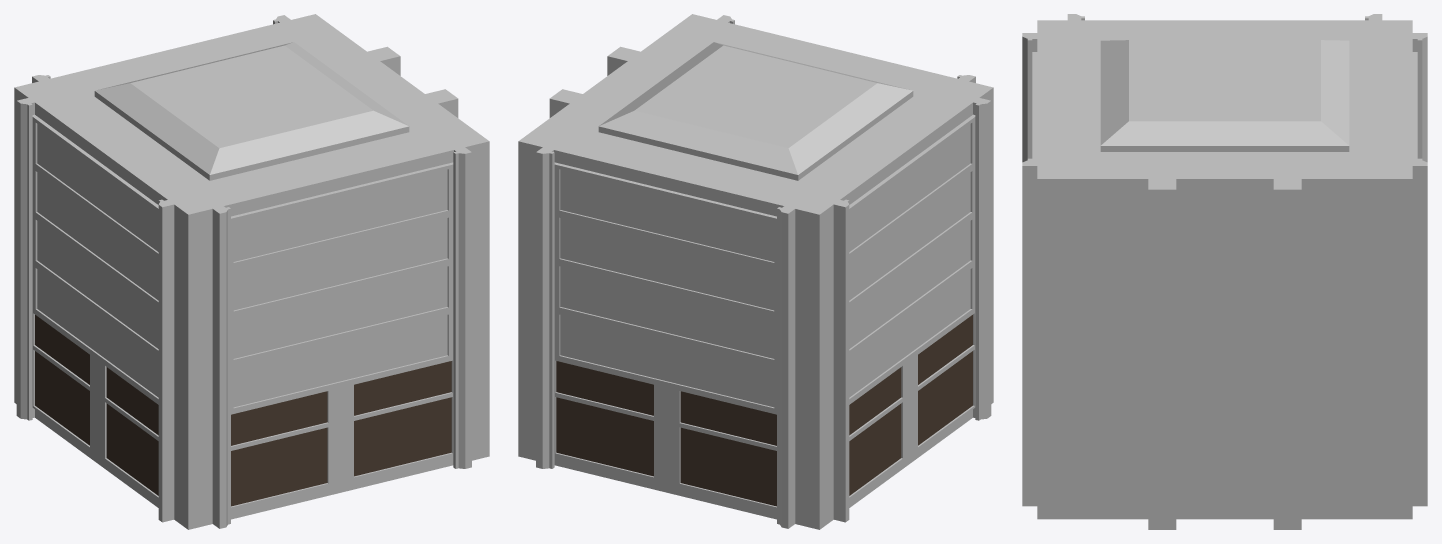
Rendered from Llift_01.FBX.
3 views of the same model, side by side, from view 1: azimuth 30°, elevation 25°; view 2: azimuth 150°, elevation 25°; view 3: azimuth 270°, elevation 25° (orthographic). The views are drawn at different scales.
Visible parts, largest first — view 1: Llift_01_Cage_LOD0, Llift_01_Door_Right_LOD0, Llift_01_Door_Front_LOD0; view 2: Llift_01_Cage_LOD0, Llift_01_Door_Left_LOD0, Llift_01_Door_Front_LOD0; view 3: Llift_01_Cage_LOD0, Llift_01_Door_Left_LOD0, Llift_01_Door_Right_LOD0.
Boxes of the visible parts, bbox=[...] form: Llift_01_Cage_LOD0: bbox=[14, 14, 489, 529]; Llift_01_Door_Right_LOD0: bbox=[231, 162, 453, 509]; Llift_01_Door_Front_LOD0: bbox=[32, 114, 158, 499]; Llift_01_Cage_LOD0: bbox=[518, 14, 993, 529]; Llift_01_Door_Left_LOD0: bbox=[554, 162, 776, 509]; Llift_01_Door_Front_LOD0: bbox=[849, 114, 975, 499]; Llift_01_Cage_LOD0: bbox=[1022, 14, 1427, 529]; Llift_01_Door_Left_LOD0: bbox=[1412, 52, 1417, 160]; Llift_01_Door_Right_LOD0: bbox=[1032, 52, 1037, 160].
Size of what is drawn, in the model's own units: 134 by 128 by 131.
